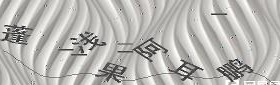chinese: (216, 57, 252, 83), (134, 35, 165, 64), (70, 29, 104, 52), (3, 21, 27, 47), (170, 60, 202, 79), (93, 64, 125, 81)
